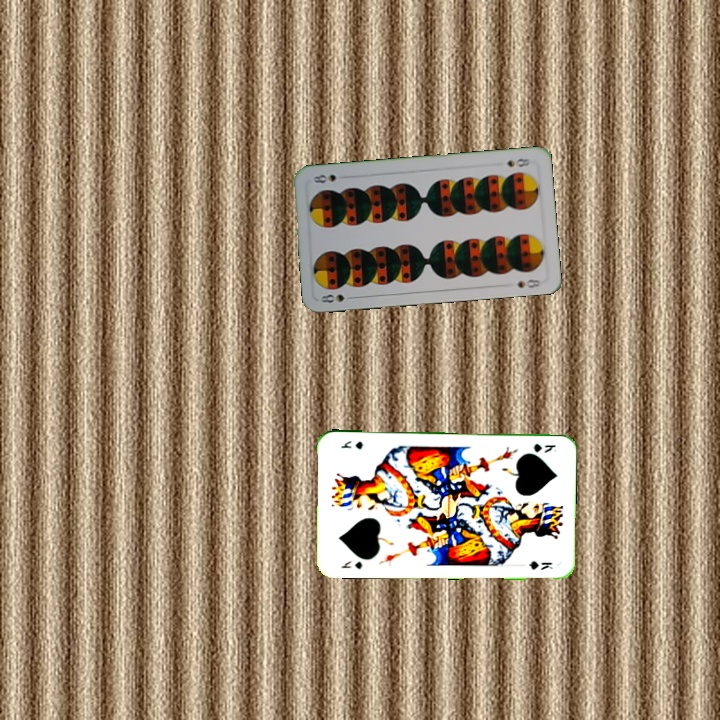GK: (337, 557, 365, 572), (530, 440, 558, 454)
S8: (317, 290, 357, 306), (503, 154, 532, 170)
